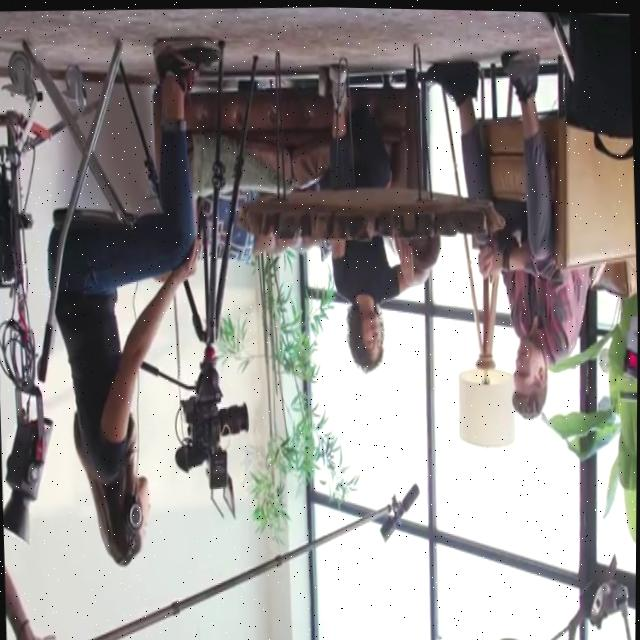Clapperboard: (614, 310, 638, 408)
